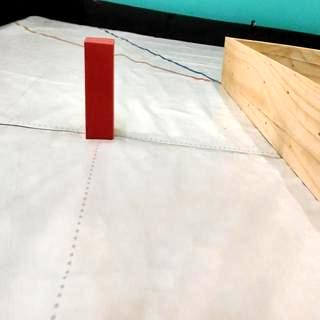redbox: (84, 36, 114, 140)
